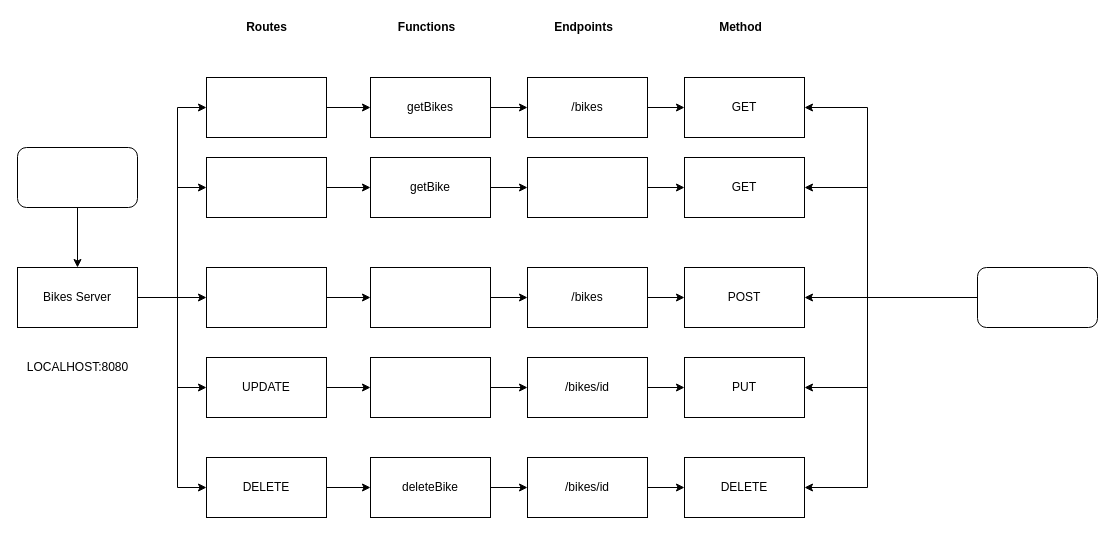
Image size: 1115x535. Some labels were removed from this diagram. The shapes that lost their labels are listed below. From the top down, each one's centre as x and y in pixels, then its label:
the point at 266,107: GET ALL
the point at 77,177: BBDD
the point at 266,187: GET BY ID
the point at 587,187: bikes/id
the point at 266,297: CREATE
the point at 430,297: createBike
the point at 1037,297: POSTMAN
the point at 430,387: updateBike
